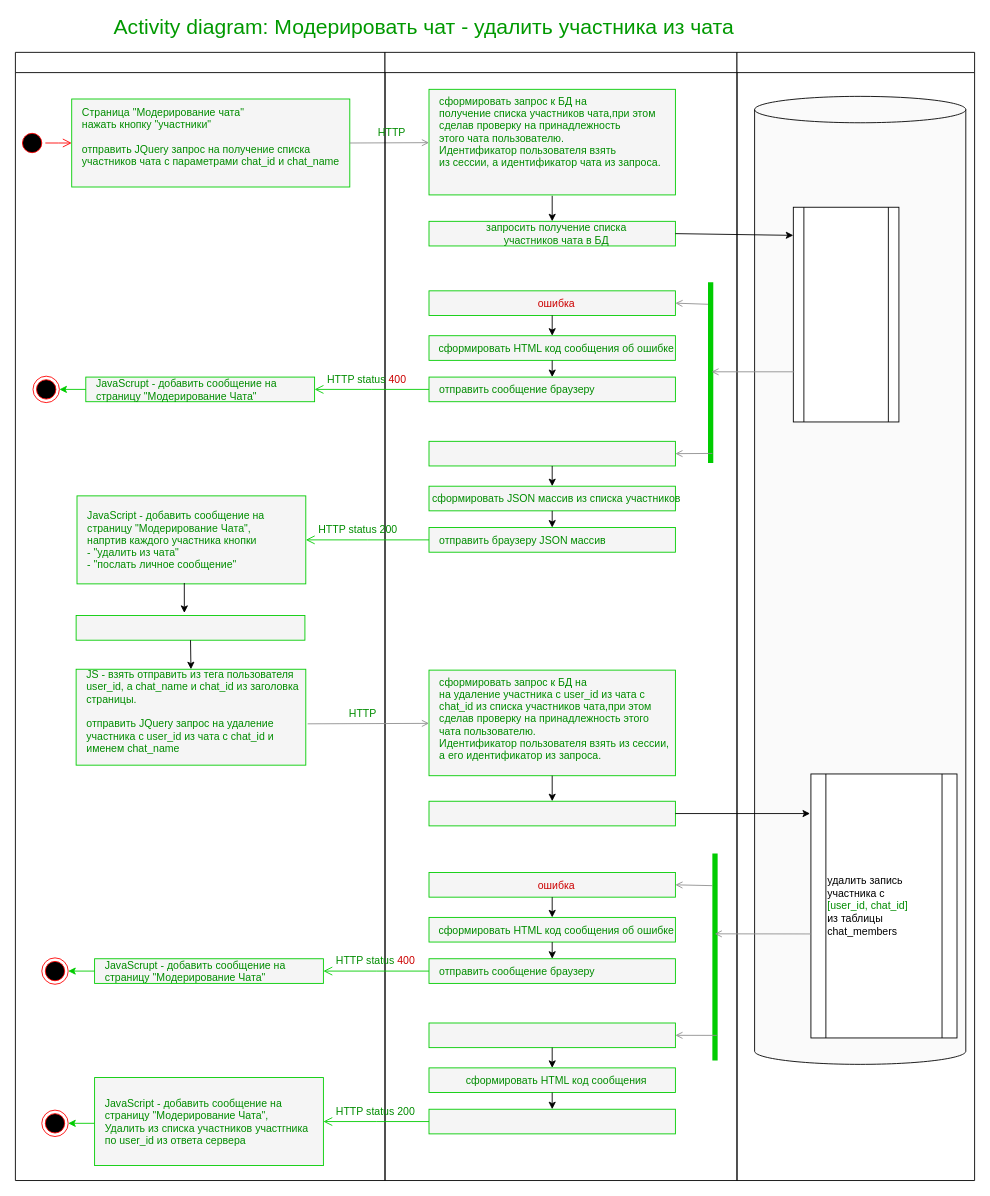
The diagram is 990 pixels wide and 1196 high, and some of its shapes have lost their labels. Each missing label, with the box of its shape:
PostgreSQL: (736, 51, 975, 1181)
Tomcat: (384, 51, 737, 1181)
Браузер: (15, 51, 385, 1181)
запросить в БД удаление участника чата из чата: (428, 800, 675, 826)
нажать кнопку "удалить из чата": (75, 615, 305, 640)
отправить браузеру сообщение: (428, 1108, 675, 1134)
получен список участников чата: (428, 440, 675, 466)
сделать выборку из таблицы chat_members: (792, 206, 899, 422)
участников чата удален: (428, 1022, 675, 1048)
